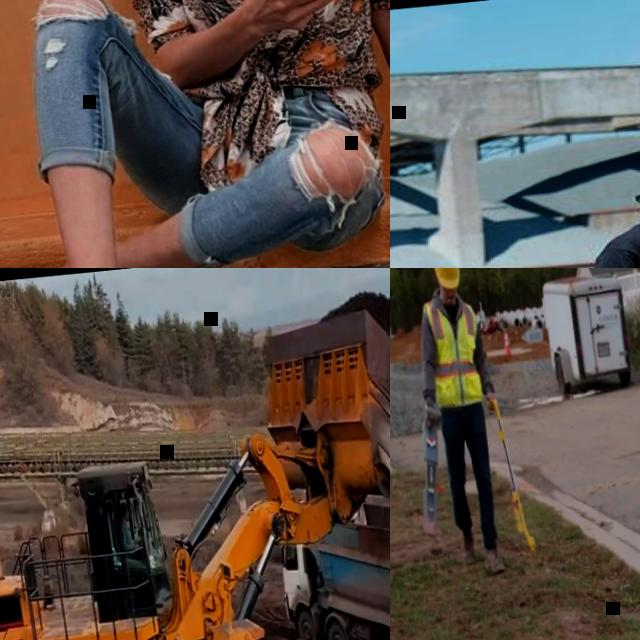Hardhat: (430, 268, 461, 290)
NO-Hardhat: (119, 501, 127, 512)
NO-Mask: (441, 291, 459, 305), (124, 515, 130, 522)
NO-Safety Vest: (147, 0, 385, 104), (120, 519, 133, 546)
Person: (0, 0, 390, 268), (405, 268, 514, 580), (488, 139, 640, 268), (117, 499, 147, 566)
Safety Cone: (501, 326, 512, 356)
Safety Vest: (422, 292, 485, 408)
vehicle: (0, 293, 390, 640), (271, 472, 390, 640)
